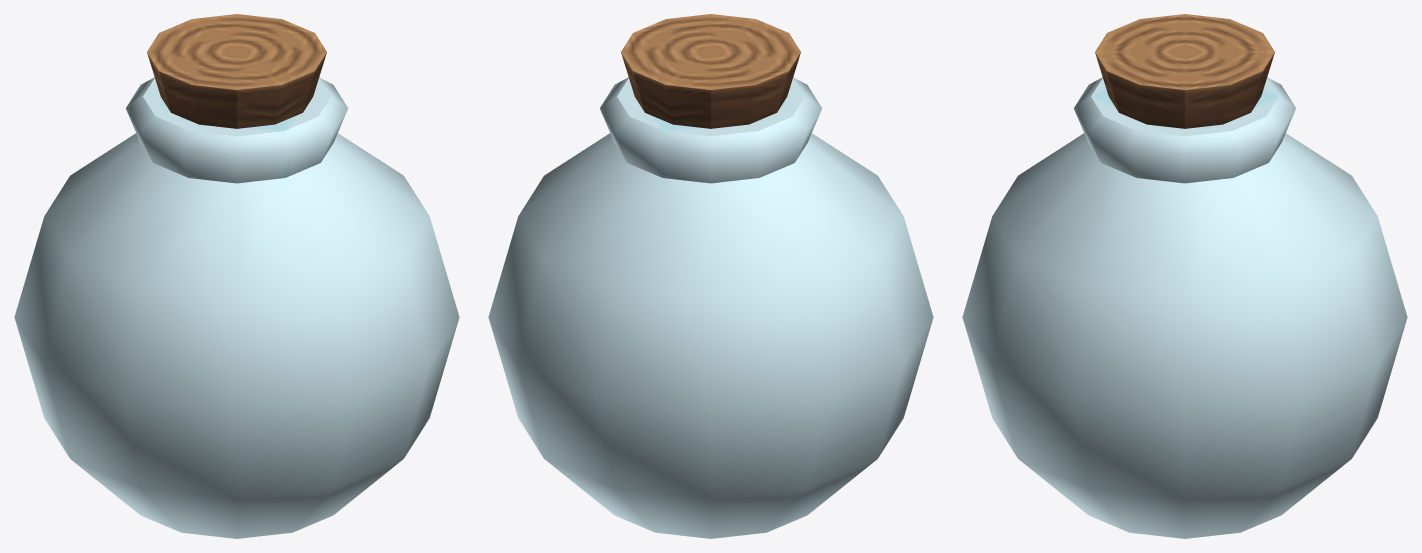
Rendered from potion_red.FBX.
3 views of the same model, side by side, from view 1: azimuth 30°, elevation 25°; view 2: azimuth 150°, elevation 25°; view 3: azimuth 270°, elevation 25° (orthographic).
Visible parts, largest first — view 1: potion_red; view 2: potion_red; view 3: potion_red.
Part boxes in pixels (<box>): potion_red: <box>14,14,459,538</box>; potion_red: <box>488,14,933,538</box>; potion_red: <box>962,14,1407,538</box>.
Size of the model in its own units: 34.35 by 39.76 by 34.35.
